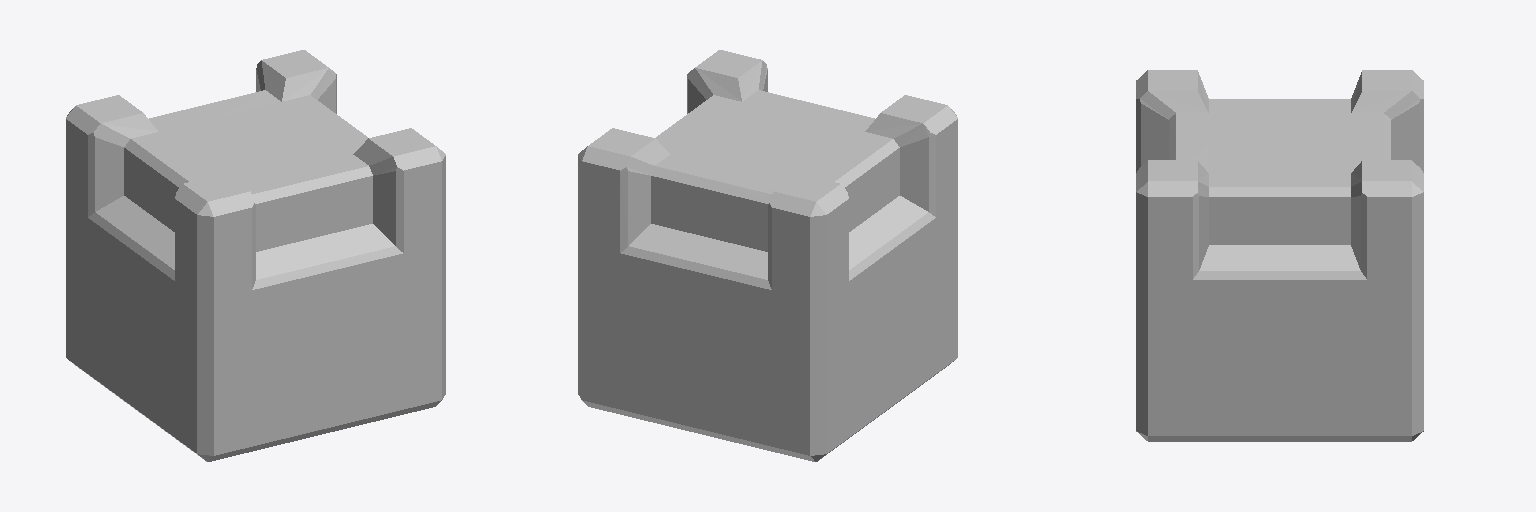
File: Block.obj
3 views of the same model, side by side, from view 1: azimuth 30°, elevation 25°; view 2: azimuth 150°, elevation 25°; view 3: azimuth 270°, elevation 25° (orthographic).
Parts seen in each view (by area): view 1: Cube.002; view 2: Cube.002; view 3: Cube.002.
Boxes of the visible parts, <box> form: Cube.002: <box>66,50,445,461</box>; Cube.002: <box>578,50,957,461</box>; Cube.002: <box>1136,70,1423,441</box>.
Size of the model in its own units: 2 by 2 by 2.